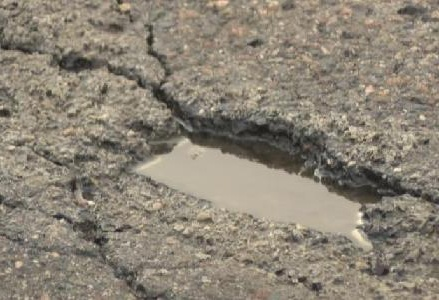pothole: (111, 106, 418, 257)
